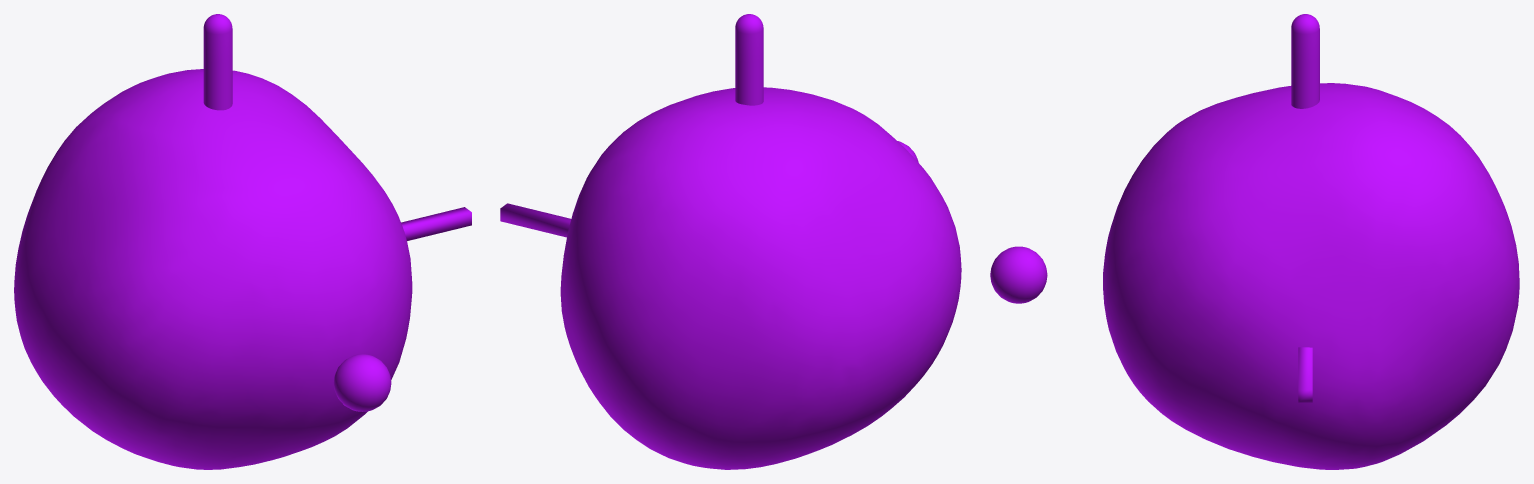
File: EnvelopeBilayer3.FBX
3 views of the same model, side by side, from view 1: azimuth 30°, elevation 25°; view 2: azimuth 150°, elevation 25°; view 3: azimuth 270°, elevation 25° (orthographic).
Visible parts, largest first — view 1: EnvelopeBilayer3axis; view 2: EnvelopeBilayer3axis; view 3: EnvelopeBilayer3axis.
Boxes of the visible parts, bbox=[...] form: EnvelopeBilayer3axis: bbox=[14, 14, 471, 469]; EnvelopeBilayer3axis: bbox=[500, 14, 961, 469]; EnvelopeBilayer3axis: bbox=[990, 14, 1519, 469].
Size of the model in its own units: 1705 by 1664 by 1848.
